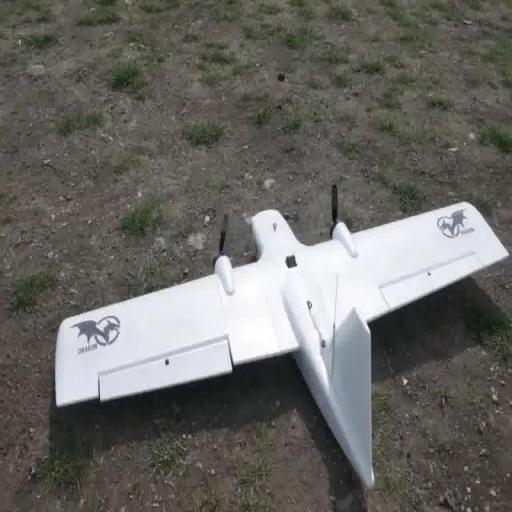uav: (51, 176, 511, 490)
